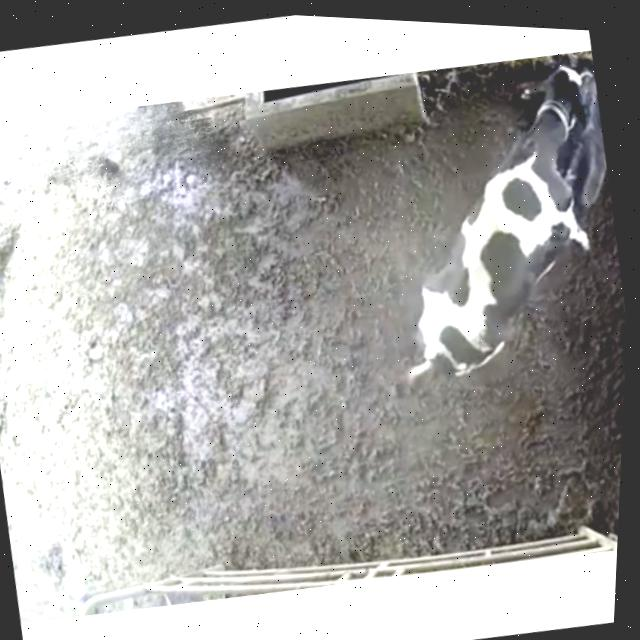ride: (350, 52, 638, 421)
